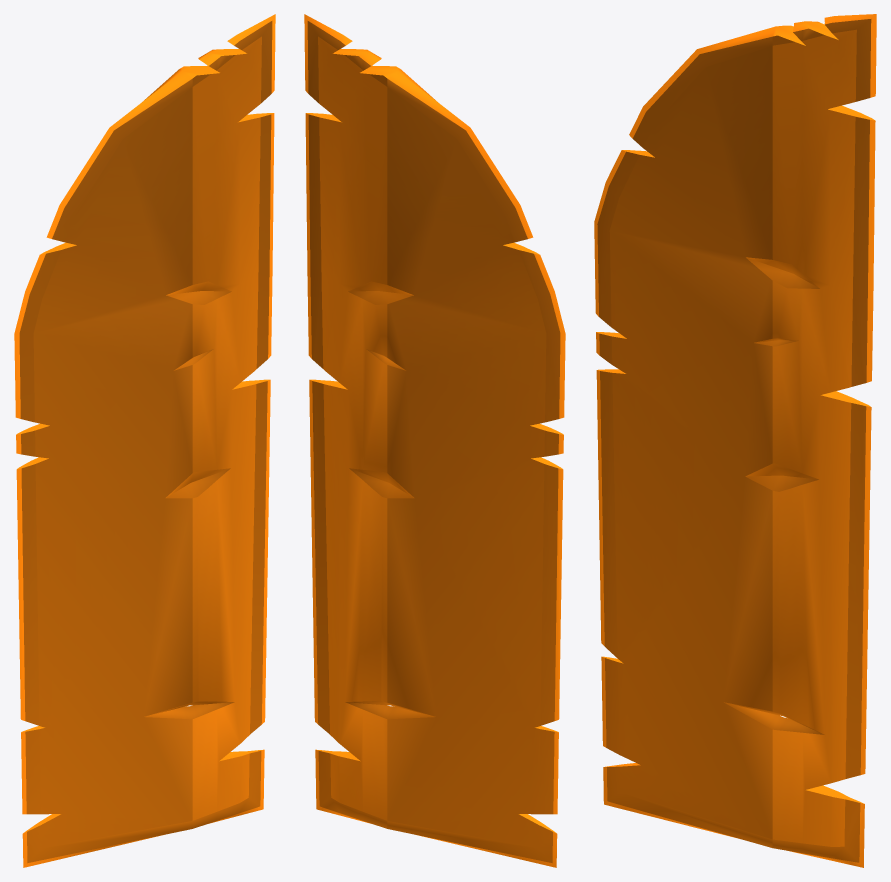
Rendered from bronze_blade_scratched_033.glb.
3 views of the same model, side by side, from view 1: azimuth 30°, elevation 25°; view 2: azimuth 150°, elevation 25°; view 3: azimuth 330°, elevation 25° (orthographic). The views are drawn at different scales.
Visible parts, largest first — view 1: bronze_blade_scratched.033; view 2: bronze_blade_scratched.033; view 3: bronze_blade_scratched.033.
Part boxes in pixels (x1=…): bronze_blade_scratched.033: x1=14, y1=14, x2=275, y2=867; bronze_blade_scratched.033: x1=304, y1=14, x2=565, y2=867; bronze_blade_scratched.033: x1=594, y1=14, x2=876, y2=867.
Bounding box in the file's own units: 4.15 × 12.06 × 0.3631.
1 material, 1 textured.
